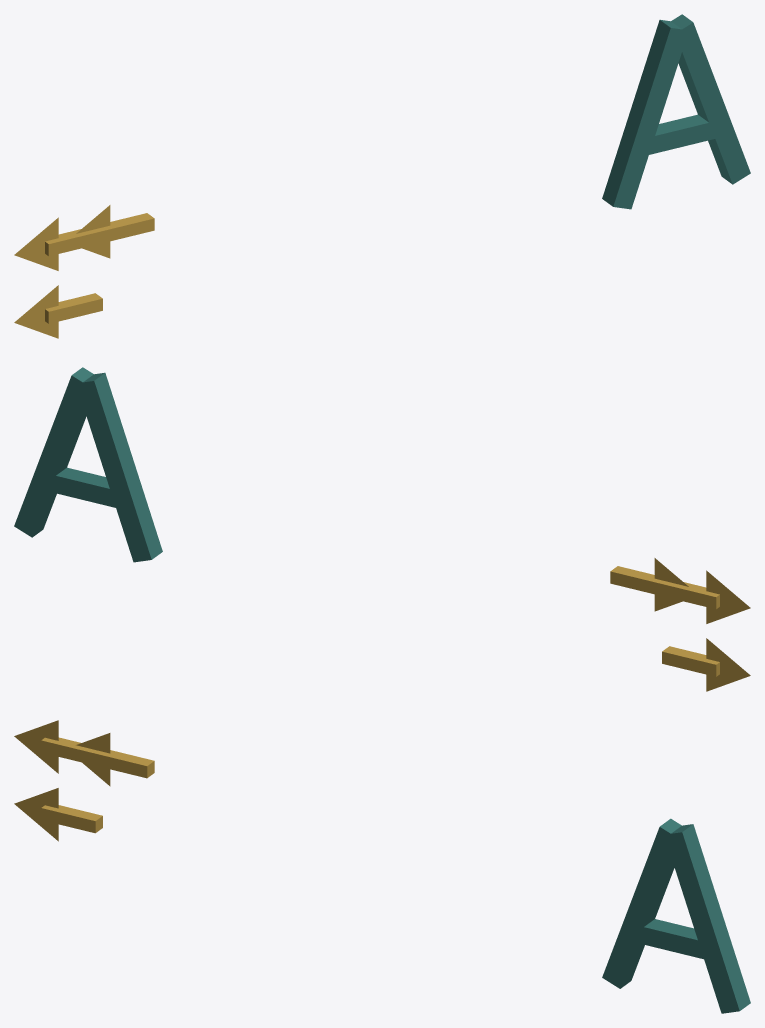
The model's file is babel-symbols.glb.
3 views of the same model, one above another, from view 1: azimuth 30°, elevation 25°; view 2: azimuth 150°, elevation 25°; view 3: azimuth 330°, elevation 25° (orthographic).
Parts seen in each view (by area): view 1: babel-symbols-surface; view 2: babel-symbols-surface; view 3: babel-symbols-surface.
Boxes of the visible parts, x1,y1,x2,y2 form: babel-symbols-surface: [14, 14, 750, 338]; babel-symbols-surface: [14, 367, 750, 691]; babel-symbols-surface: [14, 720, 750, 1013].
Bounding box in the file's own units: 5.66 × 1.27 × 0.15.
